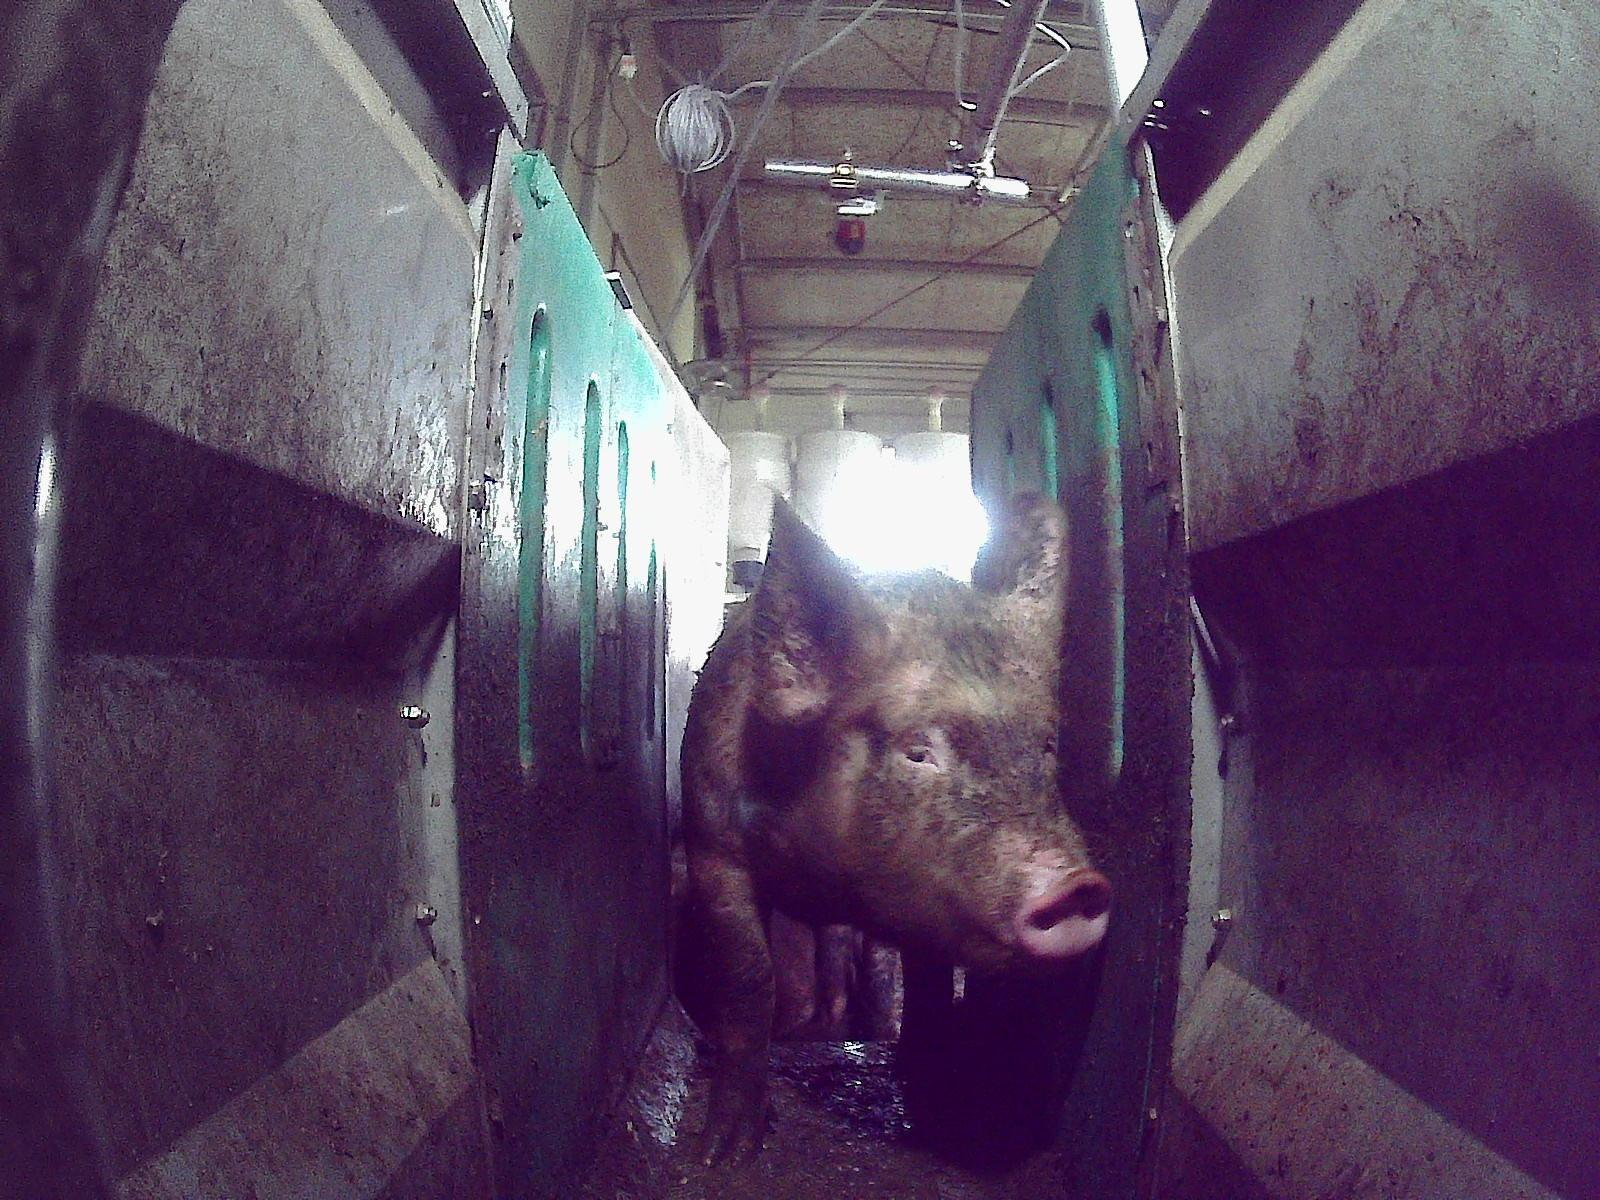Face: (784, 587, 1112, 975)
